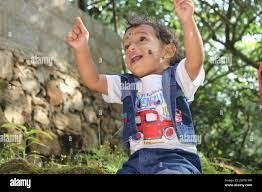Human: (72, 0, 225, 192)
